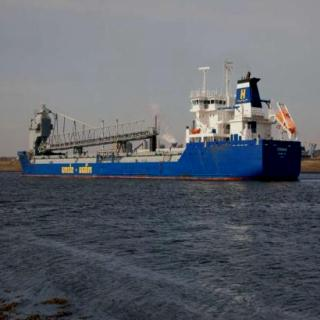Bulk Carrier: (21, 110, 316, 184)
